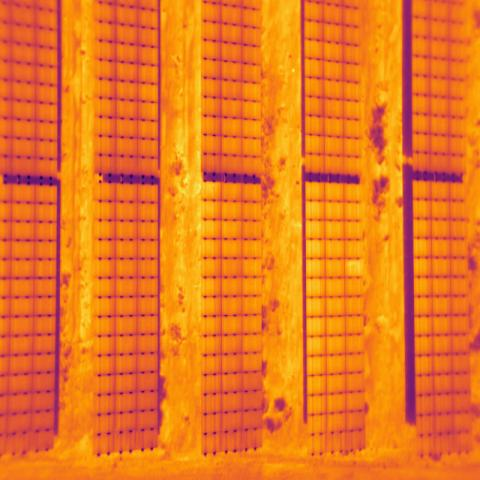fault: (345, 257, 364, 280)
